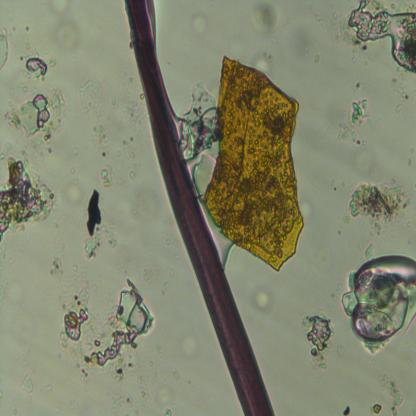Background material: (188, 54, 314, 270), (340, 244, 416, 362), (72, 275, 152, 377), (335, 0, 416, 75), (0, 149, 56, 247), (334, 177, 414, 241), (3, 87, 68, 147), (59, 280, 96, 354), (295, 309, 335, 371), (83, 185, 114, 258), (90, 118, 120, 190), (340, 94, 373, 147), (50, 0, 80, 55), (247, 4, 285, 42), (16, 46, 56, 82), (127, 184, 159, 224), (377, 372, 404, 416), (76, 74, 104, 115), (389, 75, 413, 114), (247, 284, 276, 313), (60, 177, 87, 207), (188, 8, 213, 38), (44, 251, 67, 282), (153, 382, 173, 416), (179, 330, 201, 360), (18, 371, 37, 399), (0, 27, 9, 74), (128, 148, 138, 182), (336, 340, 347, 362), (370, 402, 382, 416), (342, 404, 351, 416)
Microfibre: (125, 1, 275, 415)
